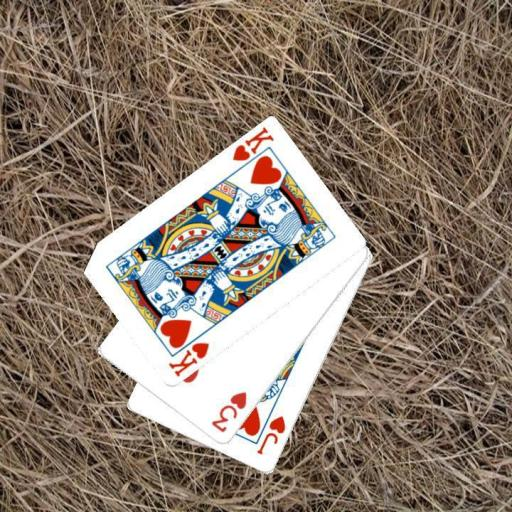card-corner: (208, 389, 249, 434), (165, 339, 211, 379), (229, 124, 275, 164), (254, 412, 287, 456)
